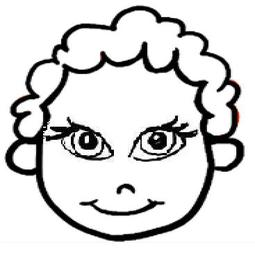ear: (4, 138, 51, 179), (205, 136, 247, 175)
eye: (48, 110, 119, 164), (121, 118, 197, 164)
mouth: (73, 196, 169, 216)
nose: (114, 179, 142, 196)
